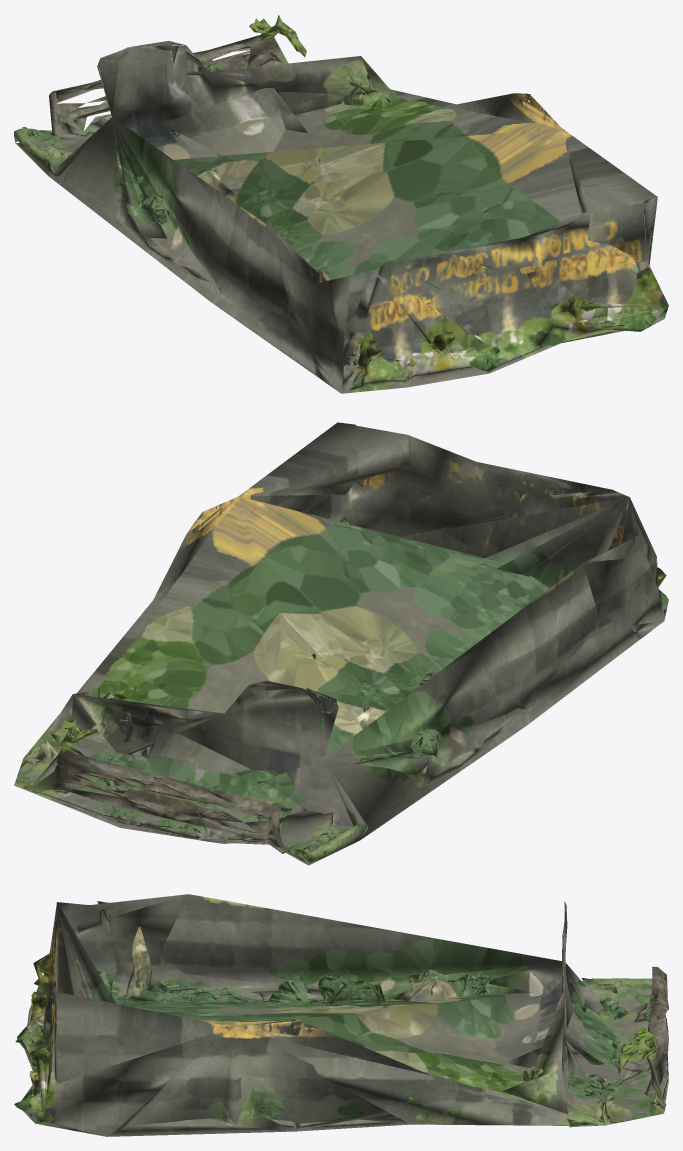
3 renders of one model, top to bottom at view 1: azimuth 30°, elevation 25°; view 2: azimuth 150°, elevation 25°; view 3: azimuth 270°, elevation 25°, orthographic. The views are drawn at different scales.
Bounding box in the file's own units: 0.5147 × 0.2036 × 0.9859.
1 material, 1 textured.
